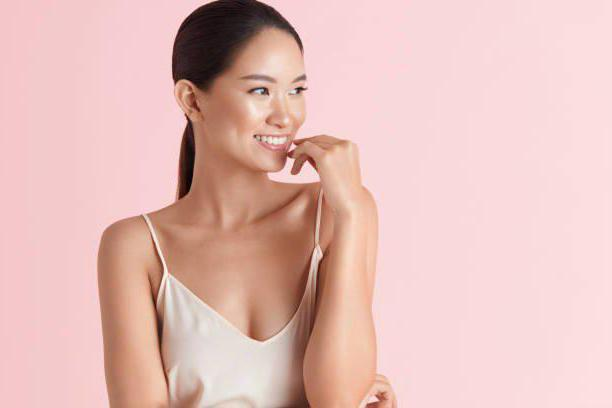Sober: (232, 40, 305, 163)
